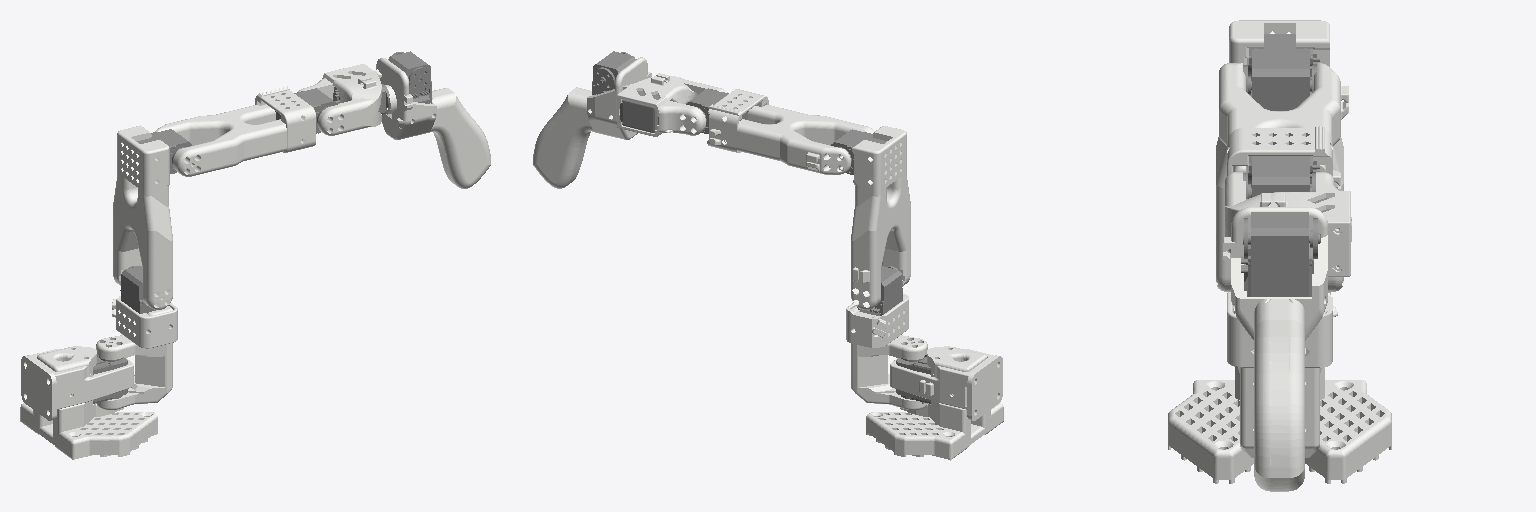
robot.urdf — so101_leader:
<?xml version="1.0" ?>
<!-- Generated using onshape-to-robot -->
<!-- Onshape document_id: 8f481cee516ba3c20e3a95ba -->
<robot name="so101_leader">
  <!-- Link lower_arm -->
  <link name="lower_arm">
    <inertial>
      <origin xyz="0 0 0" rpy="0 0 0"/>
      <mass value="1e-09"/>
      <inertia ixx="1e-09" ixy="0" ixz="0" iyy="1e-09" iyz="0" izz="1e-09"/>
    </inertial>
    <!-- Part under_arm_so101_v1 -->
    <visual>
      <origin xyz="0.162084 -7.77677e-05 0.19717" rpy="-1.5708 -1.16157e-14 -3.14159"/>
      <geometry>
        <mesh filename="package://so101_description/onshape/assets/under_arm_so101_v1.stl"/>
      </geometry>
      <material name="under_arm_so101_v1_material">
        <color rgba="0.964706 0.964706 0.952941 1"/>
      </material>
    </visual>
    <collision>
      <origin xyz="0.162084 -7.77677e-05 0.19717" rpy="-1.5708 -1.16157e-14 -3.14159"/>
      <geometry>
        <mesh filename="package://so101_description/onshape/assets/under_arm_so101_v1.stl"/>
      </geometry>
    </collision>
    <!-- Part motor_holder_so101_wrist_v1 -->
    <visual>
      <origin xyz="0.162084 2.22323e-05 0.19717" rpy="-1.5708 -1.16157e-14 -3.14159"/>
      <geometry>
        <mesh filename="package://so101_description/onshape/assets/motor_holder_so101_wrist_v1.stl"/>
      </geometry>
      <material name="motor_holder_so101_wrist_v1_material">
        <color rgba="0.964706 0.964706 0.952941 1"/>
      </material>
    </visual>
    <collision>
      <origin xyz="0.162084 2.22323e-05 0.19717" rpy="-1.5708 -1.16157e-14 -3.14159"/>
      <geometry>
        <mesh filename="package://so101_description/onshape/assets/motor_holder_so101_wrist_v1.stl"/>
      </geometry>
    </collision>
    <!-- Part sts3215_03a_v1 -->
    <visual>
      <origin xyz="0.219634 0.000422232 0.23437" rpy="1.5708 1.16157e-14 4.996e-15"/>
      <geometry>
        <mesh filename="package://so101_description/onshape/assets/sts3215_03a_v1.stl"/>
      </geometry>
      <material name="sts3215_03a_v1_material">
        <color rgba="0.627451 0.627451 0.627451 1"/>
      </material>
    </visual>
    <collision>
      <origin xyz="0.219634 0.000422232 0.23437" rpy="1.5708 1.16157e-14 4.996e-15"/>
      <geometry>
        <mesh filename="package://so101_description/onshape/assets/sts3215_03a_v1.stl"/>
      </geometry>
    </collision>
  </link>
  <!-- Link wrist -->
  <link name="wrist">
    <inertial>
      <origin xyz="0 0 0" rpy="0 0 0"/>
      <mass value="1e-09"/>
      <inertia ixx="1e-09" ixy="0" ixz="0" iyy="1e-09" iyz="0" izz="1e-09"/>
    </inertial>
    <!-- Part wrist_roll_pitch_so101_v2 -->
    <visual>
      <origin xyz="0.0013672 -0.0290022 0.0181" rpy="-1.5708 -1.5708 0"/>
      <geometry>
        <mesh filename="package://so101_description/onshape/assets/wrist_roll_pitch_so101_v2.stl"/>
      </geometry>
      <material name="wrist_roll_pitch_so101_v2_material">
        <color rgba="0.964706 0.964706 0.952941 1"/>
      </material>
    </visual>
    <collision>
      <origin xyz="0.0013672 -0.0290022 0.0181" rpy="-1.5708 -1.5708 0"/>
      <geometry>
        <mesh filename="package://so101_description/onshape/assets/wrist_roll_pitch_so101_v2.stl"/>
      </geometry>
    </collision>
    <!-- Part sts3215_03a_no_horn_v1 -->
    <visual>
      <origin xyz="0.0013672 -0.0434022 0.0306" rpy="1.5708 1.5708 0"/>
      <geometry>
        <mesh filename="package://so101_description/onshape/assets/sts3215_03a_no_horn_v1.stl"/>
      </geometry>
      <material name="sts3215_03a_no_horn_v1_material">
        <color rgba="0.627451 0.627451 0.627451 1"/>
      </material>
    </visual>
    <collision>
      <origin xyz="0.0013672 -0.0434022 0.0306" rpy="1.5708 1.5708 0"/>
      <geometry>
        <mesh filename="package://so101_description/onshape/assets/sts3215_03a_no_horn_v1.stl"/>
      </geometry>
    </collision>
  </link>
  <!-- Link gripper -->
  <link name="gripper">
    <inertial>
      <origin xyz="0 0 0" rpy="0 0 0"/>
      <mass value="1e-09"/>
      <inertia ixx="1e-09" ixy="0" ixz="0" iyy="1e-09" iyz="0" izz="1e-09"/>
    </inertial>
    <!-- Part wrist_roll_so101_v1 -->
    <visual>
      <origin xyz="-0.003859 -4.11997e-18 0" rpy="3.14159 -0 0"/>
      <geometry>
        <mesh filename="package://so101_description/onshape/assets/wrist_roll_so101_v1.stl"/>
      </geometry>
      <material name="wrist_roll_so101_v1_material">
        <color rgba="0.964706 0.964706 0.952941 1"/>
      </material>
    </visual>
    <collision>
      <origin xyz="-0.003859 -4.11997e-18 0" rpy="3.14159 -0 0"/>
      <geometry>
        <mesh filename="package://so101_description/onshape/assets/wrist_roll_so101_v1.stl"/>
      </geometry>
    </collision>
    <!-- Part handle_so101_v1 -->
    <visual>
      <origin xyz="-0.00374918 -3.1469e-17 3.56822e-05" rpy="3.14159 4.16334e-17 1.57772e-30"/>
      <geometry>
        <mesh filename="package://so101_description/onshape/assets/handle_so101_v1.stl"/>
      </geometry>
      <material name="handle_so101_v1_material">
        <color rgba="0.964706 0.964706 0.952941 1"/>
      </material>
    </visual>
    <collision>
      <origin xyz="-0.00374918 -3.1469e-17 3.56822e-05" rpy="3.14159 4.16334e-17 1.57772e-30"/>
      <geometry>
        <mesh filename="package://so101_description/onshape/assets/handle_so101_v1.stl"/>
      </geometry>
    </collision>
    <!-- Part sts3215_03a_v1_2 -->
    <visual>
      <origin xyz="0.003841 0.0001 -0.0234" rpy="-1.5708 1.3909e-15 -8.32667e-16"/>
      <geometry>
        <mesh filename="package://so101_description/onshape/assets/sts3215_03a_v1.stl"/>
      </geometry>
      <material name="sts3215_03a_v1_2_material">
        <color rgba="0.627451 0.627451 0.627451 1"/>
      </material>
    </visual>
    <collision>
      <origin xyz="0.003841 0.0001 -0.0234" rpy="-1.5708 1.3909e-15 -8.32667e-16"/>
      <geometry>
        <mesh filename="package://so101_description/onshape/assets/sts3215_03a_v1.stl"/>
      </geometry>
    </collision>
  </link>
  <!-- Frame gripperframe (dummy link + fixed joint) -->
  <link name="gripperframe">
    <origin xyz="0 0 0" rpy="0 -0 0"/>
    <inertial>
      <origin xyz="0 0 0" rpy="0 0 0"/>
      <mass value="1e-9"/>
      <inertia ixx="0" ixy="0" ixz="0" iyy="0" iyz="0" izz="0"/>
    </inertial>
  </link>
  <joint name="gripperframe_frame" type="fixed">
    <origin xyz="-0.0803685 -0.0045 -0.0967325" rpy="3.14159 4.16334e-17 1.57772e-30"/>
    <parent link="gripper"/>
    <child link="gripperframe"/>
    <axis xyz="0 0 0"/>
  </joint>
  <!-- Joint from wrist to gripper -->
  <joint name="5" type="revolute">
    <origin xyz="0.0013672 -0.0621022 0.0181" rpy="1.5708 -1.73947e-16 -3.14159"/>
    <parent link="wrist"/>
    <child link="gripper"/>
    <axis xyz="0 0 1"/>
    <limit effort="10" velocity="10" lower="-3.141592653589793" upper="3.141592653589793"/>
  </joint>
  <!-- Joint from lower_arm to wrist -->
  <joint name="4" type="revolute">
    <origin xyz="0.232134 -0.0182778 0.23437" rpy="-1.5708 1.5708 0"/>
    <parent link="lower_arm"/>
    <child link="wrist"/>
    <axis xyz="0 0 1"/>
    <limit effort="10" velocity="10" lower="-3.141592653589793" upper="3.141592653589793"/>
  </joint>
  <!-- Link upper_arm -->
  <link name="upper_arm">
    <inertial>
      <origin xyz="0 0 0" rpy="0 0 0"/>
      <mass value="1e-09"/>
      <inertia ixx="1e-09" ixy="0" ixz="0" iyy="1e-09" iyz="0" izz="1e-09"/>
    </inertial>
    <!-- Part sts3215_03a_v1_3 -->
    <visual>
      <origin xyz="0.0125 2.77556e-17 -0.0187" rpy="2.16937e-29 -2.87611e-30 3.14159"/>
      <geometry>
        <mesh filename="package://so101_description/onshape/assets/sts3215_03a_v1.stl"/>
      </geometry>
      <material name="sts3215_03a_v1_3_material">
        <color rgba="0.627451 0.627451 0.627451 1"/>
      </material>
    </visual>
    <collision>
      <origin xyz="0.0125 2.77556e-17 -0.0187" rpy="2.16937e-29 -2.87611e-30 3.14159"/>
      <geometry>
        <mesh filename="package://so101_description/onshape/assets/sts3215_03a_v1.stl"/>
      </geometry>
    </collision>
    <!-- Part upper_arm_so101_v1 -->
    <visual>
      <origin xyz="0.04 0.047485 -0.0182" rpy="2.87611e-30 -1.02552e-29 1.5708"/>
      <geometry>
        <mesh filename="package://so101_description/onshape/assets/upper_arm_so101_v1.stl"/>
      </geometry>
      <material name="upper_arm_so101_v1_material">
        <color rgba="0.964706 0.964706 0.952941 1"/>
      </material>
    </visual>
    <collision>
      <origin xyz="0.04 0.047485 -0.0182" rpy="2.87611e-30 -1.02552e-29 1.5708"/>
      <geometry>
        <mesh filename="package://so101_description/onshape/assets/upper_arm_so101_v1.stl"/>
      </geometry>
    </collision>
  </link>
  <!-- Link shoulder -->
  <link name="shoulder">
    <inertial>
      <origin xyz="0 0 0" rpy="0 0 0"/>
      <mass value="1e-09"/>
      <inertia ixx="1e-09" ixy="0" ixz="0" iyy="1e-09" iyz="0" izz="1e-09"/>
    </inertial>
    <!-- Part sts3215_03a_v1_4 -->
    <visual>
      <origin xyz="0.0125 1.38778e-16 -0.0187" rpy="-9.23216e-31 3.33294e-29 -3.14159"/>
      <geometry>
        <mesh filename="package://so101_description/onshape/assets/sts3215_03a_v1.stl"/>
      </geometry>
      <material name="sts3215_03a_v1_4_material">
        <color rgba="0.627451 0.627451 0.627451 1"/>
      </material>
    </visual>
    <collision>
      <origin xyz="0.0125 1.38778e-16 -0.0187" rpy="-9.23216e-31 3.33294e-29 -3.14159"/>
      <geometry>
        <mesh filename="package://so101_description/onshape/assets/sts3215_03a_v1.stl"/>
      </geometry>
    </collision>
    <!-- Part motor_holder_so101_base_v1 -->
    <visual>
      <origin xyz="0.0700499 0.0372 -0.0181" rpy="-3.20577e-15 9.4369e-15 1.16575e-14"/>
      <geometry>
        <mesh filename="package://so101_description/onshape/assets/motor_holder_so101_base_v1.stl"/>
      </geometry>
      <material name="motor_holder_so101_base_v1_material">
        <color rgba="0.964706 0.964706 0.952941 1"/>
      </material>
    </visual>
    <collision>
      <origin xyz="0.0700499 0.0372 -0.0181" rpy="-3.20577e-15 9.4369e-15 1.16575e-14"/>
      <geometry>
        <mesh filename="package://so101_description/onshape/assets/motor_holder_so101_base_v1.stl"/>
      </geometry>
    </collision>
    <!-- Part rotation_pitch_so101_v1 -->
    <visual>
      <origin xyz="0.1006 -0.0426 -0.0183" rpy="3.14159 3.46945e-16 -1.5708"/>
      <geometry>
        <mesh filename="package://so101_description/onshape/assets/rotation_pitch_so101_v1.stl"/>
      </geometry>
      <material name="rotation_pitch_so101_v1_material">
        <color rgba="0.964706 0.964706 0.952941 1"/>
      </material>
    </visual>
    <collision>
      <origin xyz="0.1006 -0.0426 -0.0183" rpy="3.14159 3.46945e-16 -1.5708"/>
      <geometry>
        <mesh filename="package://so101_description/onshape/assets/rotation_pitch_so101_v1.stl"/>
      </geometry>
    </collision>
  </link>
  <!-- Link base -->
  <link name="base">
    <inertial>
      <origin xyz="0 0 0" rpy="0 0 0"/>
      <mass value="1e-09"/>
      <inertia ixx="1e-09" ixy="0" ixz="0" iyy="1e-09" iyz="0" izz="1e-09"/>
    </inertial>
    <!-- Part sts3215_03a_v1_5 -->
    <visual>
      <origin xyz="0.0125 -2.59846e-17 -0.0187" rpy="-1.7352e-15 4.18253e-17 3.14159"/>
      <geometry>
        <mesh filename="package://so101_description/onshape/assets/sts3215_03a_v1.stl"/>
      </geometry>
      <material name="sts3215_03a_v1_5_material">
        <color rgba="0.627451 0.627451 0.627451 1"/>
      </material>
    </visual>
    <collision>
      <origin xyz="0.0125 -2.59846e-17 -0.0187" rpy="-1.7352e-15 4.18253e-17 3.14159"/>
      <geometry>
        <mesh filename="package://so101_description/onshape/assets/sts3215_03a_v1.stl"/>
      </geometry>
    </collision>
    <!-- Part waveshare_mounting_plate_so101_v2 -->
    <visual>
      <origin xyz="0.0698624 0.0001 -0.015" rpy="1.5708 -3.8633e-14 -1.5708"/>
      <geometry>
        <mesh filename="package://so101_description/onshape/assets/waveshare_mounting_plate_so101_v2.stl"/>
      </geometry>
      <material name="waveshare_mounting_plate_so101_v2_material">
        <color rgba="0.964706 0.964706 0.952941 1"/>
      </material>
    </visual>
    <collision>
      <origin xyz="0.0698624 0.0001 -0.015" rpy="1.5708 -3.8633e-14 -1.5708"/>
      <geometry>
        <mesh filename="package://so101_description/onshape/assets/waveshare_mounting_plate_so101_v2.stl"/>
      </geometry>
    </collision>
    <!-- Part base_motor_holder_so101_v1 -->
    <visual>
      <origin xyz="0.0452 -1.04955e-16 -0.0648" rpy="1.5708 1.61129e-15 -1.5708"/>
      <geometry>
        <mesh filename="package://so101_description/onshape/assets/base_motor_holder_so101_v1.stl"/>
      </geometry>
      <material name="base_motor_holder_so101_v1_material">
        <color rgba="0.964706 0.964706 0.952941 1"/>
      </material>
    </visual>
    <collision>
      <origin xyz="0.0452 -1.04955e-16 -0.0648" rpy="1.5708 1.61129e-15 -1.5708"/>
      <geometry>
        <mesh filename="package://so101_description/onshape/assets/base_motor_holder_so101_v1.stl"/>
      </geometry>
    </collision>
    <!-- Part base_so101_v2 -->
    <visual>
      <origin xyz="0.0452 -9.97509e-17 -0.0648" rpy="1.5708 1.7352e-15 -1.5708"/>
      <geometry>
        <mesh filename="package://so101_description/onshape/assets/base_so101_v2.stl"/>
      </geometry>
      <material name="base_so101_v2_material">
        <color rgba="0.964706 0.964706 0.952941 1"/>
      </material>
    </visual>
    <collision>
      <origin xyz="0.0452 -9.97509e-17 -0.0648" rpy="1.5708 1.7352e-15 -1.5708"/>
      <geometry>
        <mesh filename="package://so101_description/onshape/assets/base_so101_v2.stl"/>
      </geometry>
    </collision>
  </link>
  <!-- Frame baseframe (dummy link + fixed joint) -->
  <link name="baseframe">
    <origin xyz="0 0 0" rpy="0 -0 0"/>
    <inertial>
      <origin xyz="0 0 0" rpy="0 0 0"/>
      <mass value="1e-9"/>
      <inertia ixx="0" ixy="0" ixz="0" iyy="0" iyz="0" izz="0"/>
    </inertial>
  </link>
  <joint name="baseframe_frame" type="fixed">
    <origin xyz="0.0388353 -5.68595e-09 -0.0624" rpy="-1.7352e-15 4.18253e-17 3.14159"/>
    <parent link="base"/>
    <child link="baseframe"/>
    <axis xyz="0 0 0"/>
  </joint>
  <!-- Joint from shoulder to base -->
  <joint name="1" type="revolute">
    <origin xyz="0.0542 -0.0303992 -0.0182778" rpy="1.5708 3.46945e-16 -1.5708"/>
    <parent link="shoulder"/>
    <child link="base"/>
    <axis xyz="0 0 1"/>
    <limit effort="10" velocity="10" lower="-3.141592653589793" upper="3.141592653589793"/>
  </joint>
  <!-- Joint from upper_arm to shoulder -->
  <joint name="2" type="revolute">
    <origin xyz="0.0274904 0.113842 1.04083e-17" rpy="2.87611e-30 -1.02552e-29 1.5708"/>
    <parent link="upper_arm"/>
    <child link="shoulder"/>
    <axis xyz="0 0 1"/>
    <limit effort="10" velocity="10" lower="-3.141592653589793" upper="3.141592653589793"/>
  </joint>
  <!-- Joint from lower_arm to upper_arm -->
  <joint name="3" type="revolute">
    <origin xyz="0.0959629 -0.0182778 0.22968" rpy="-1.5708 -1.16157e-14 -3.14159"/>
    <parent link="lower_arm"/>
    <child link="upper_arm"/>
    <axis xyz="0 0 1"/>
    <limit effort="10" velocity="10" lower="-3.141592653589793" upper="3.141592653589793"/>
  </joint>
</robot>

--- Render facts (derived) ---
The picture shows the robot from 3 angles, left to right: view 1: azimuth 30°, elevation 25°; view 2: azimuth 150°, elevation 25°; view 3: azimuth 270°, elevation 25°; orthographic projection.
Robot: so101_leader — 8 links, 7 joints (5 revolute, 2 fixed); root link lower_arm; default pose: all joints at 0.
Visible links, largest first — view 1: base, upper_arm, lower_arm, gripper, shoulder, wrist; view 2: base, upper_arm, lower_arm, gripper, shoulder, wrist; view 3: gripper, base, lower_arm, upper_arm, shoulder, wrist.
Boxes of the visible links, x1,y1,x2,y2 form: base: [20, 346, 157, 459]; upper_arm: [113, 125, 191, 309]; lower_arm: [155, 86, 336, 176]; gripper: [376, 51, 490, 188]; shoulder: [96, 266, 177, 409]; wrist: [298, 64, 389, 135]; base: [866, 346, 1003, 460]; upper_arm: [831, 126, 910, 309]; lower_arm: [686, 89, 874, 174]; gripper: [533, 51, 651, 188]; shoulder: [846, 266, 927, 409]; wrist: [617, 73, 727, 136]; gripper: [1223, 207, 1327, 491]; base: [1168, 292, 1391, 483]; lower_arm: [1219, 63, 1348, 198]; upper_arm: [1216, 20, 1351, 291]; shoulder: [1227, 292, 1337, 457]; wrist: [1225, 172, 1350, 276].
Bounding box of the posed robot: 0.4228 × 0.1109 × 0.2627 m (x, y, z).
17 mesh visuals loaded from 13 distinct referenced files (13 binary STL).